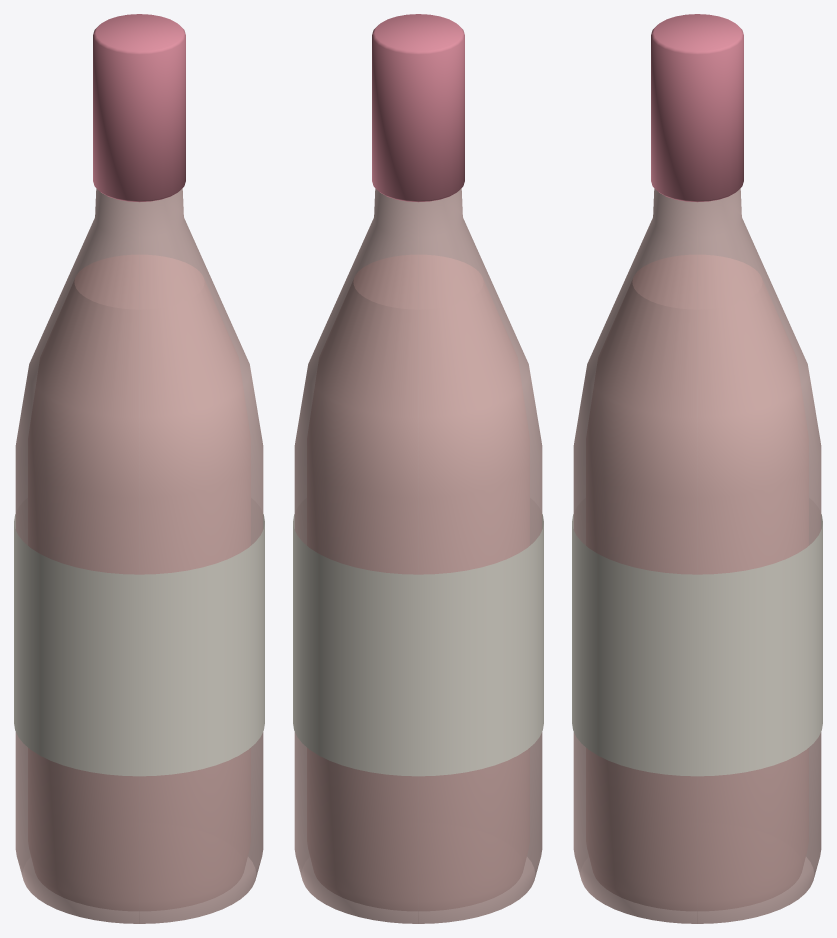
File: espumante_rose.glb
3 renders of one model, left to right at view 1: azimuth 30°, elevation 25°; view 2: azimuth 150°, elevation 25°; view 3: azimuth 270°, elevation 25°, orthographic.
Visible parts, largest first — view 1: espumante_rose; view 2: espumante_rose; view 3: espumante_rose.
Part boxes in pixels (bbox=[...]): espumante_rose: bbox=[14, 14, 264, 923]; espumante_rose: bbox=[293, 14, 543, 923]; espumante_rose: bbox=[572, 14, 822, 923].
Size of the model in its own units: 0.0902 by 0.334 by 0.0902.
